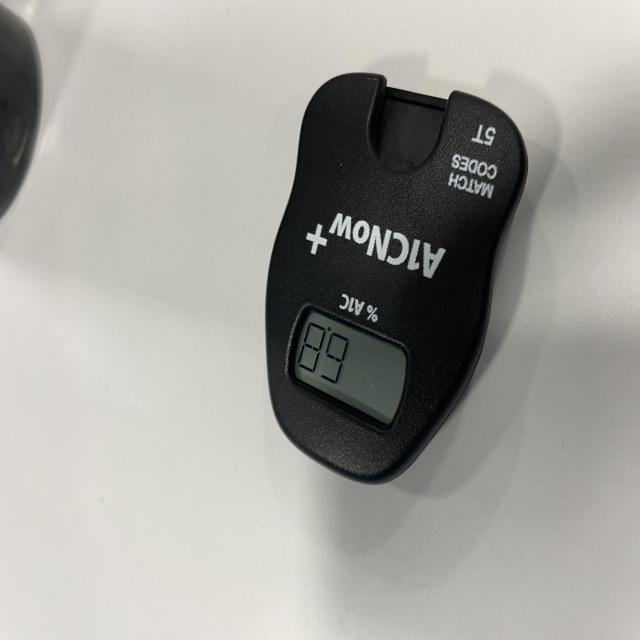hba1c: (264, 72, 528, 488)
